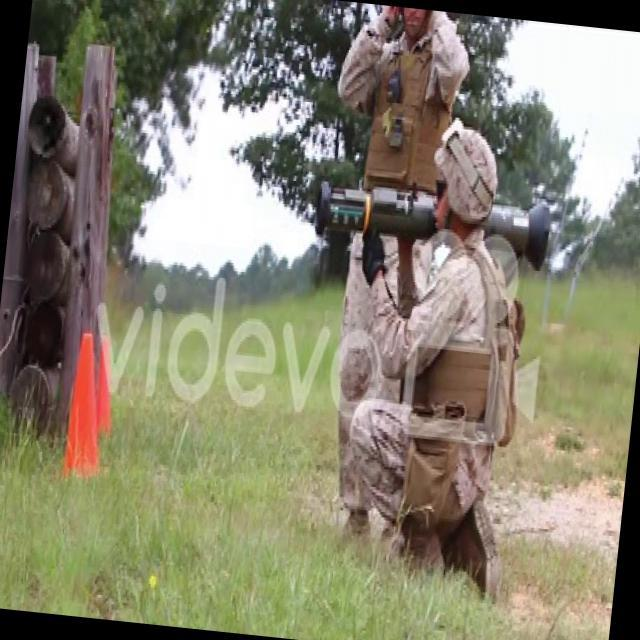rocket: (310, 174, 552, 268)
